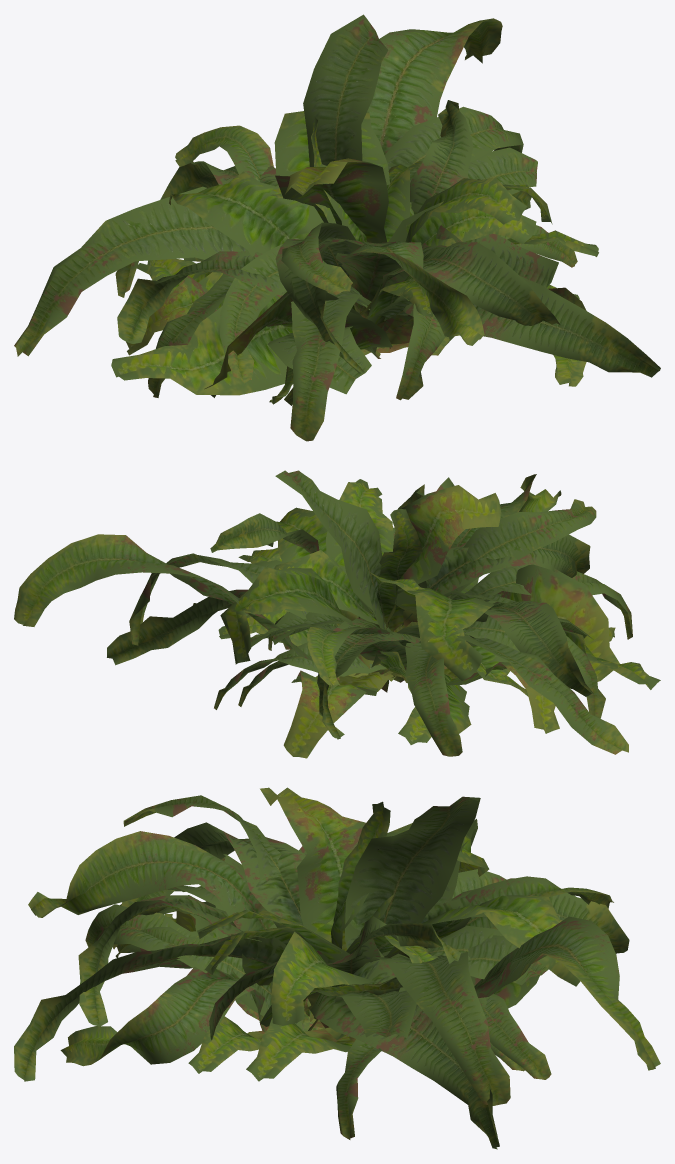
The model's file is ferns.glb.
3 views of the same model, one above another, from view 1: azimuth 30°, elevation 25°; view 2: azimuth 150°, elevation 25°; view 3: azimuth 270°, elevation 25° (orthographic). The views are drawn at different scales.
Visible parts, largest first — view 1: fern_02_b, fern_02_c, fern_02_d, fern_02_a; view 2: fern_02_b, fern_02_c, fern_02_a, fern_02_d; view 3: fern_02_b, fern_02_c, fern_02_a, fern_02_d.
Part boxes in pixels (x1,y1,x2,y2): fern_02_b: [14, 14, 660, 441]; fern_02_c: [111, 116, 586, 405]; fern_02_d: [137, 238, 579, 404]; fern_02_a: [198, 100, 558, 355]; fern_02_b: [14, 470, 632, 758]; fern_02_c: [107, 477, 660, 756]; fern_02_a: [210, 513, 528, 709]; fern_02_d: [267, 554, 615, 744]; fern_02_b: [14, 787, 660, 1139]; fern_02_c: [60, 795, 613, 1149]; fern_02_a: [115, 893, 551, 1079]; fern_02_d: [127, 901, 407, 1073].
Bounding box in the file's own units: 0.9897 × 0.4277 × 0.8937.
1 material, 1 textured.
